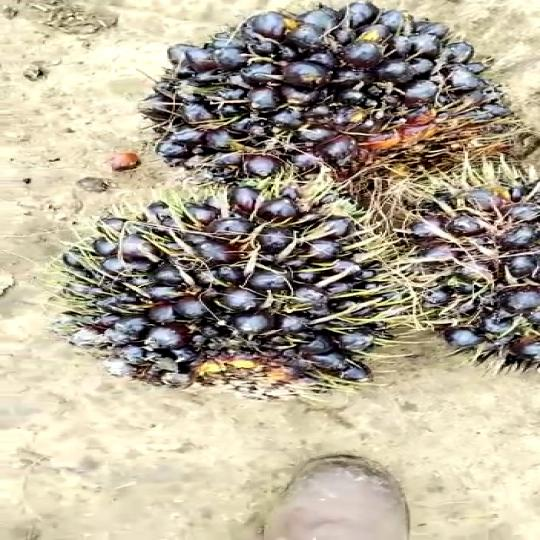mentah: (70, 170, 437, 406), (145, 0, 526, 173)
